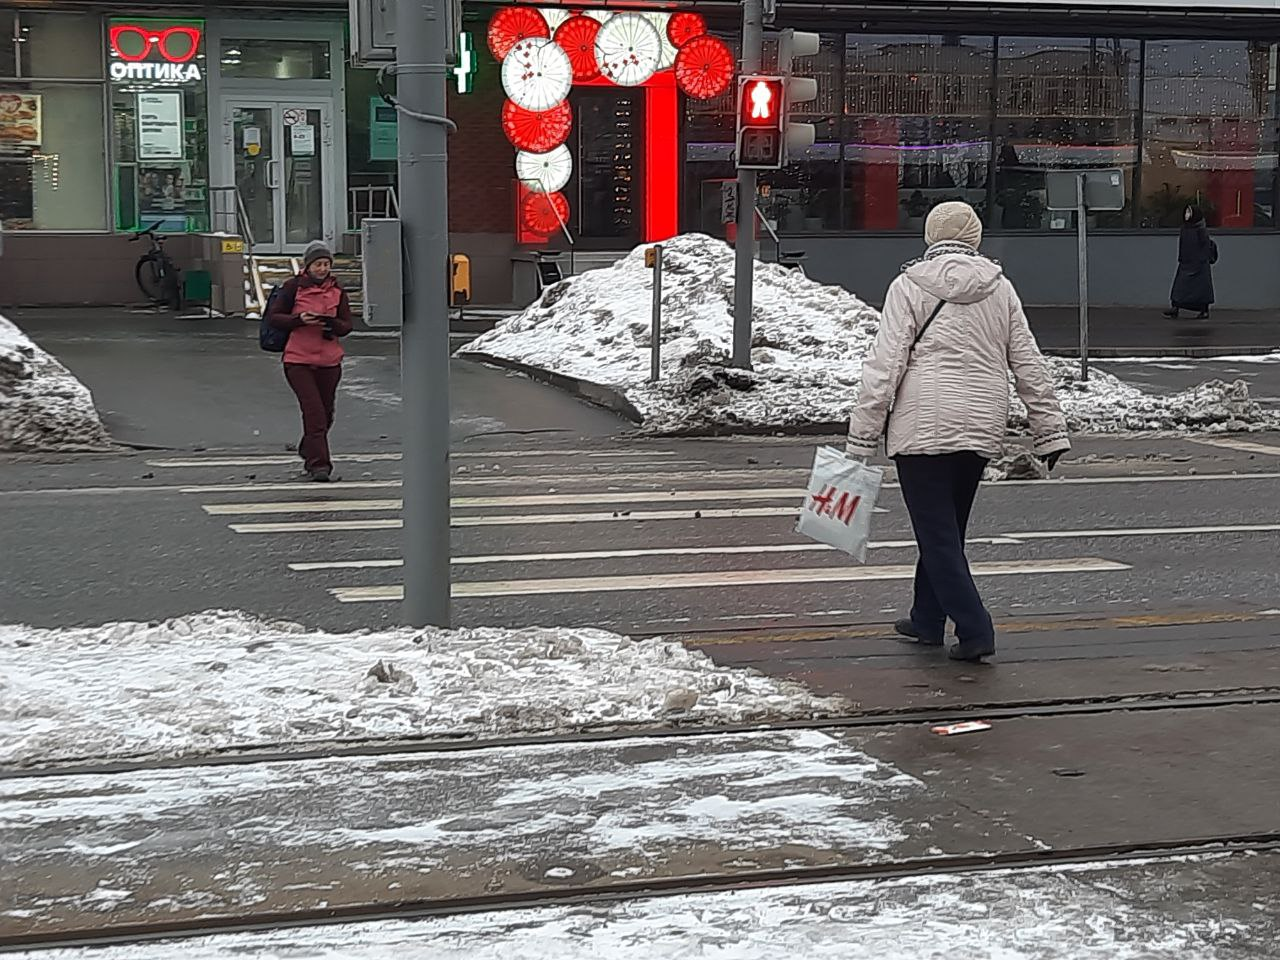sombie: (255, 232, 371, 488)
